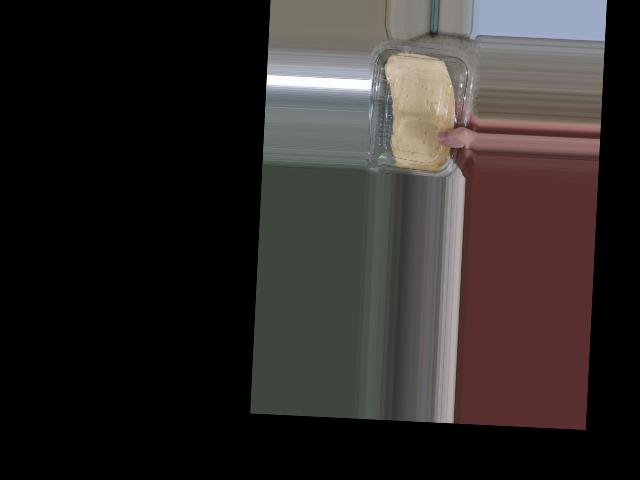cheese: (364, 38, 464, 178)
